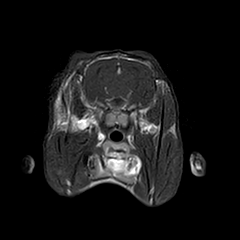Brain: (70, 24, 169, 122)
